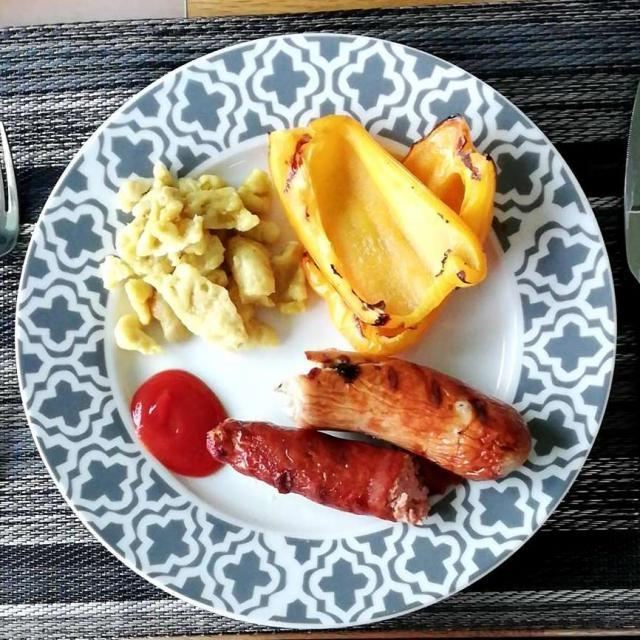bell-pepper: (284, 114, 506, 355)
ketchup: (126, 379, 228, 474)
sausage: (210, 346, 532, 513)
spaetzle: (84, 150, 306, 357)
